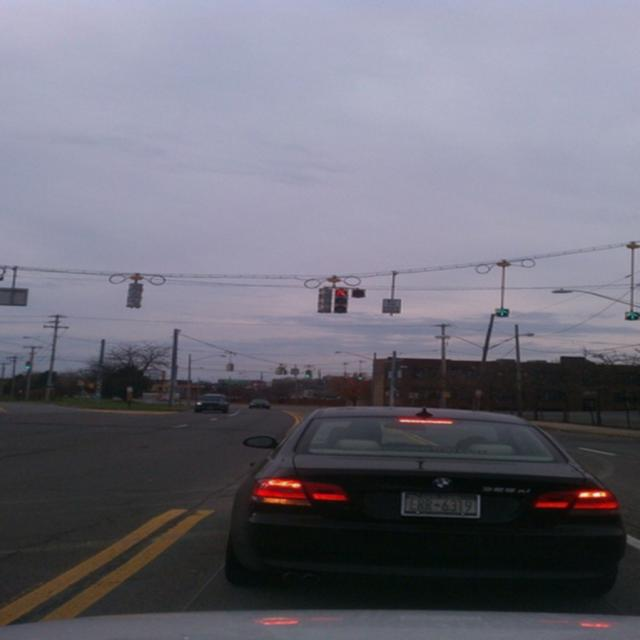car: (220, 407, 622, 599), (0, 611, 638, 633), (194, 392, 225, 411), (246, 398, 269, 408)
